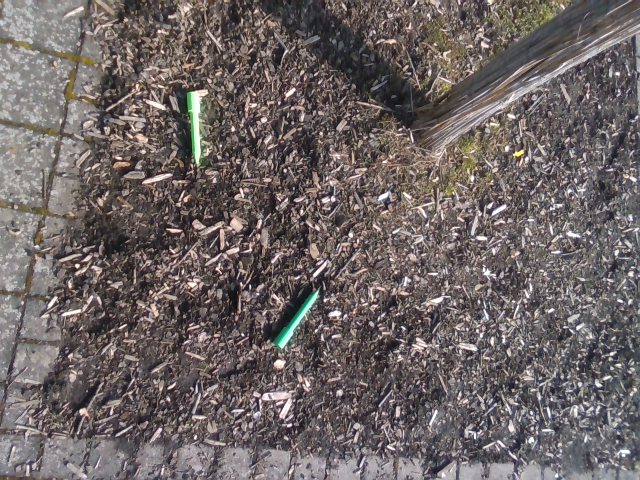Probe: (268, 279, 326, 359), (181, 84, 211, 174)
